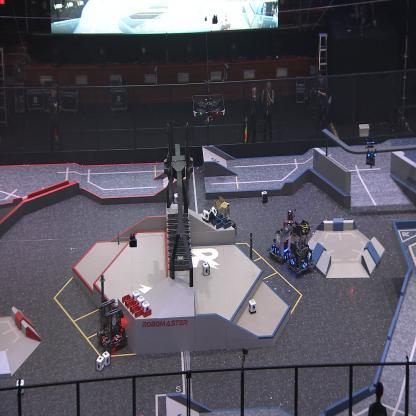car: (96, 298, 127, 353), (288, 220, 314, 278), (268, 224, 293, 267), (212, 197, 237, 239), (282, 207, 302, 234)
